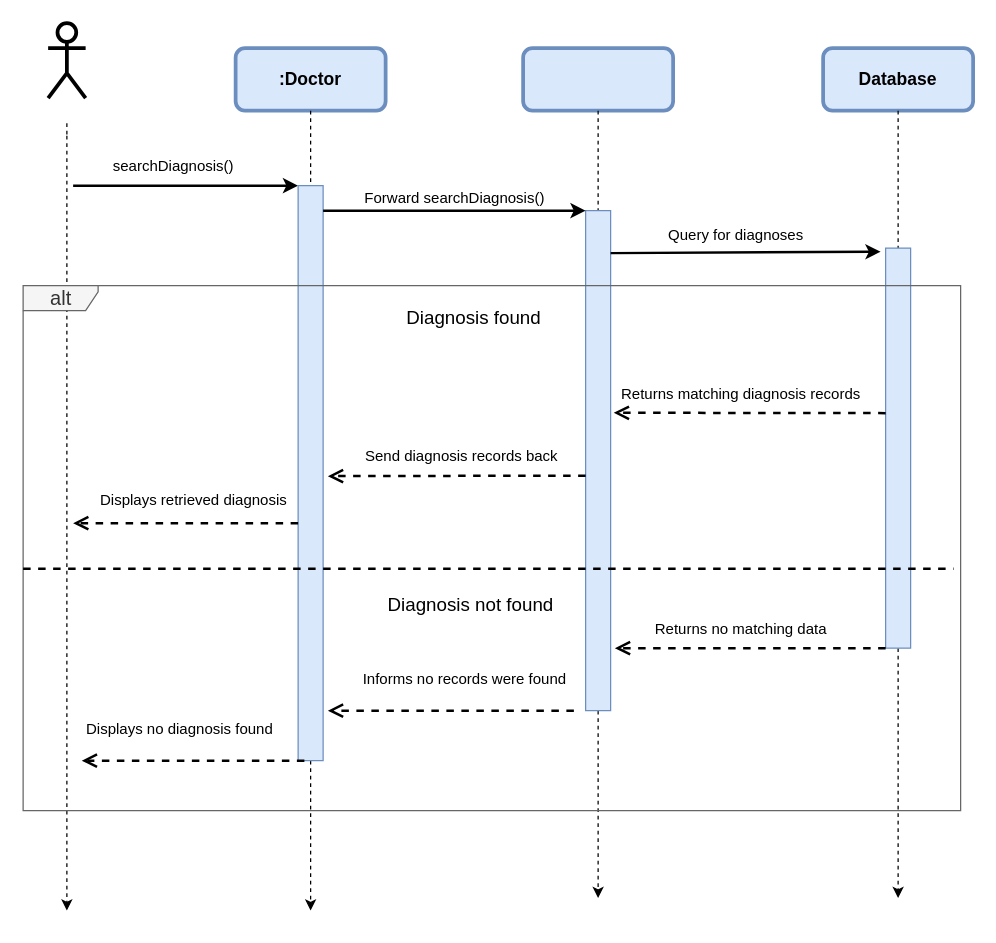
Some shapes in this 996 by 943 pixel diagram are drawn without their labels. The centre of each missing label's shape, as x and y in pixels:
"Doctor" goes at (x=66, y=60).
"Server" goes at (x=597, y=79).
